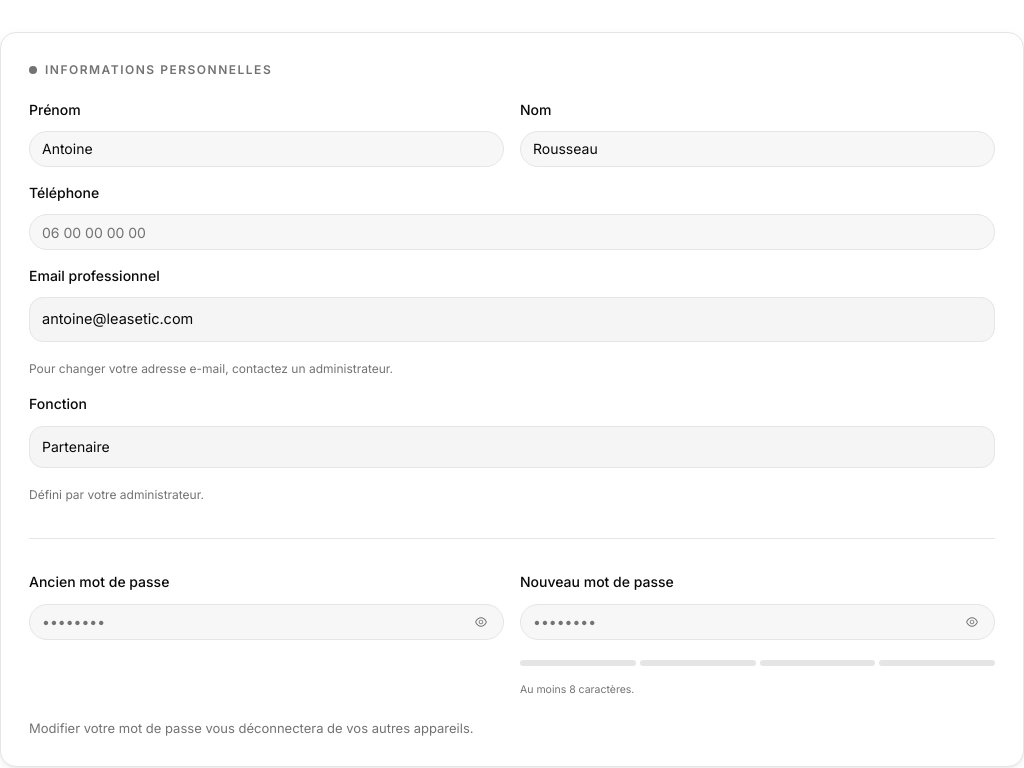
it: ParametresForm › Test 12: Save is disabled until something is dirty, and Cancel resets
The width and height of the screenshot is (1024, 768).
Replace the text in the field labelled "Prénom" with "Marie": (266, 149) x1=29 y1=131 x2=504 y2=167
(page scrolled)
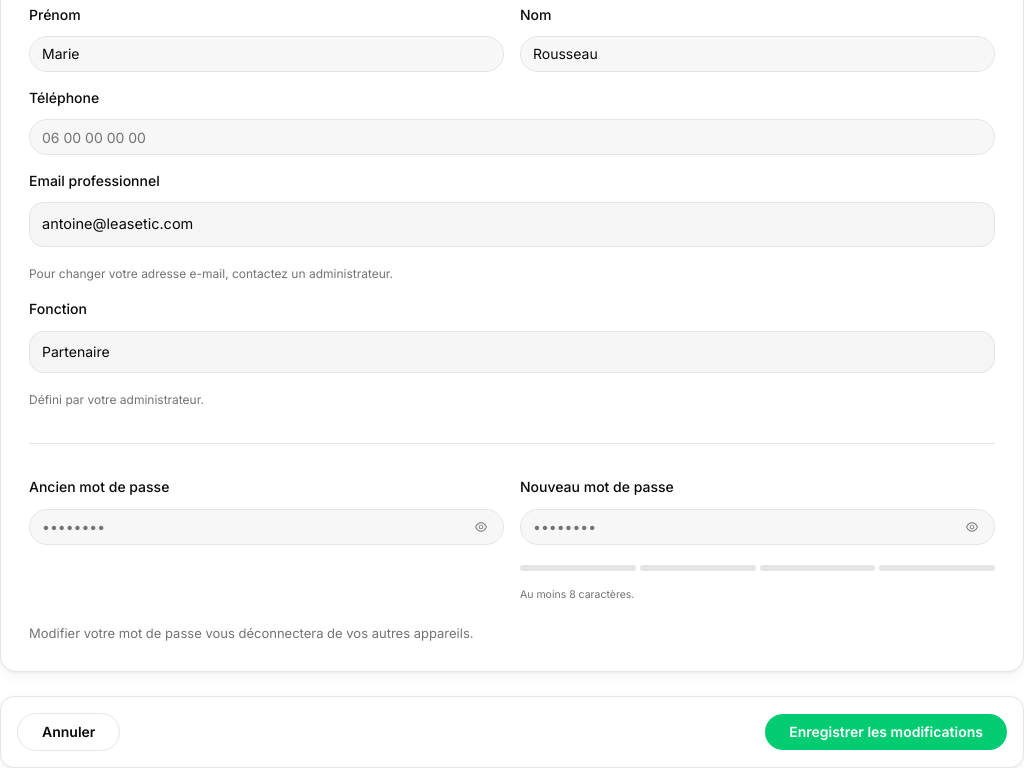
expect the button "Enregistrer les modifications" is enabled: met, box x1=765 y1=714 x2=1007 y2=750
Click the button "Annuler": (69, 732) x1=17 y1=713 x2=120 y2=751
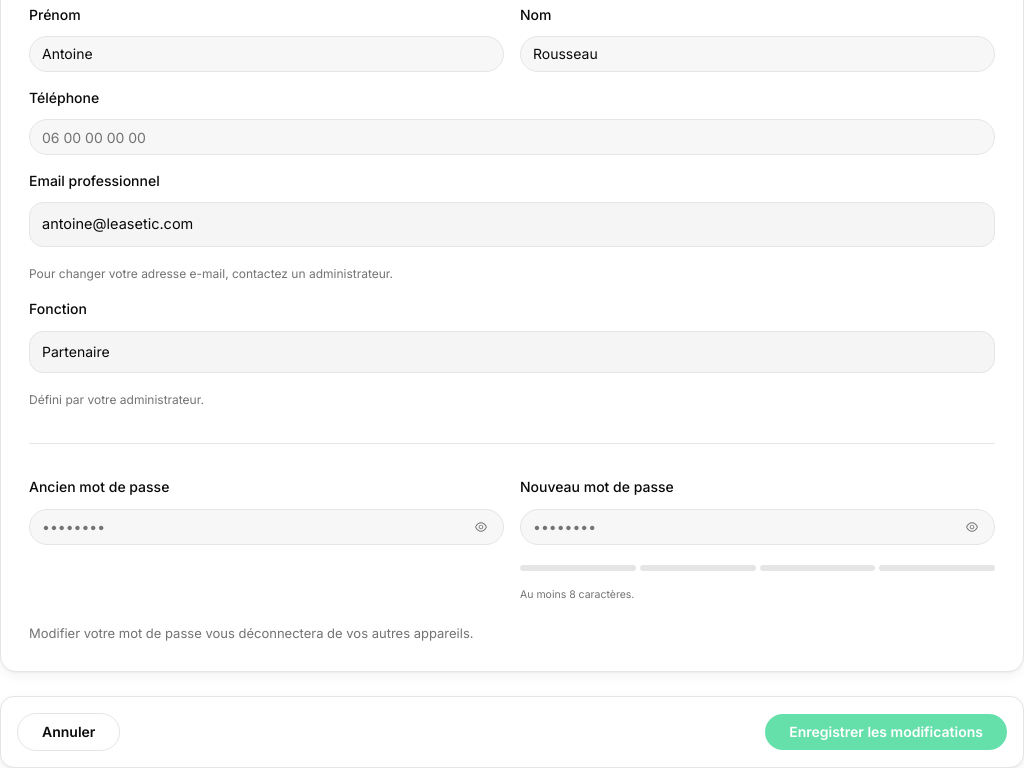
expect the field labelled "Prénom" holds "Antoine": met, box x1=29 y1=36 x2=504 y2=72
expect the button "Enregistrer les modifications" is disabled: met, box x1=765 y1=714 x2=1007 y2=750
